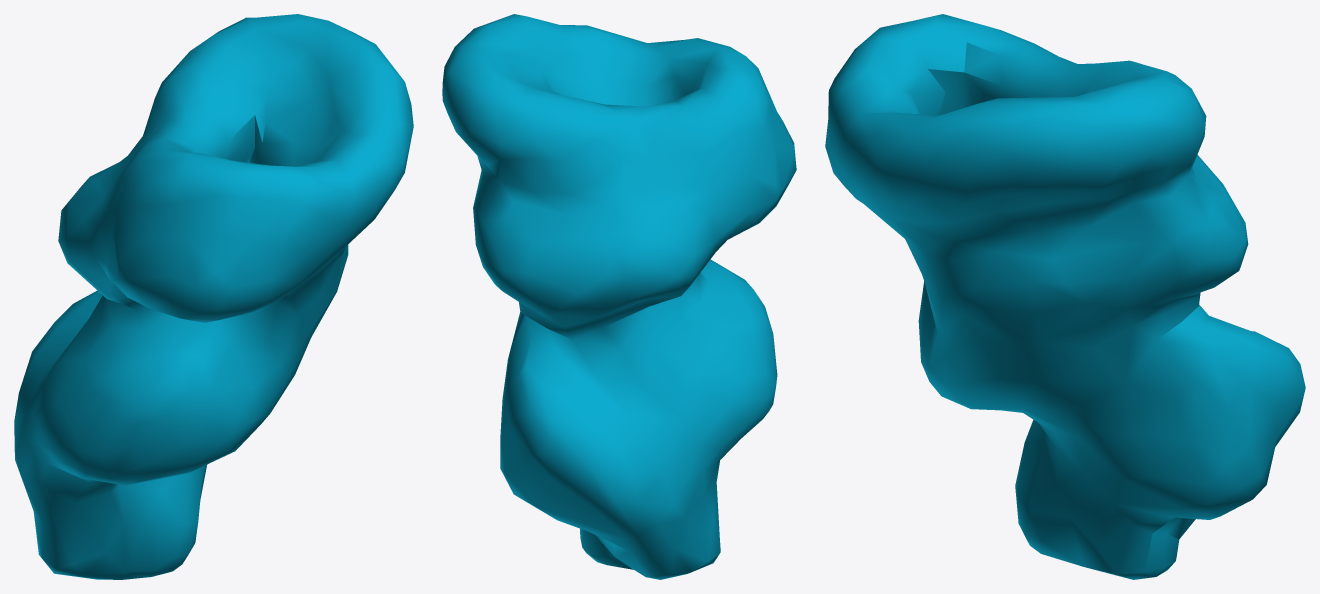
The model's file is limeElement4.fbx.
3 renders of one model, left to right at view 1: azimuth 30°, elevation 25°; view 2: azimuth 150°, elevation 25°; view 3: azimuth 270°, elevation 25°, orthographic. The views are drawn at different scales.
Parts seen in each view (by area): view 1: Retopo_Layer_19; view 2: Retopo_Layer_19; view 3: Retopo_Layer_19.
Part boxes in pixels (box(x1,y1,x2,y2)): Retopo_Layer_19: box(14, 14, 413, 579); Retopo_Layer_19: box(442, 14, 796, 579); Retopo_Layer_19: box(825, 14, 1305, 579).
Size of the model in its own units: 94.44 by 139 by 107.
